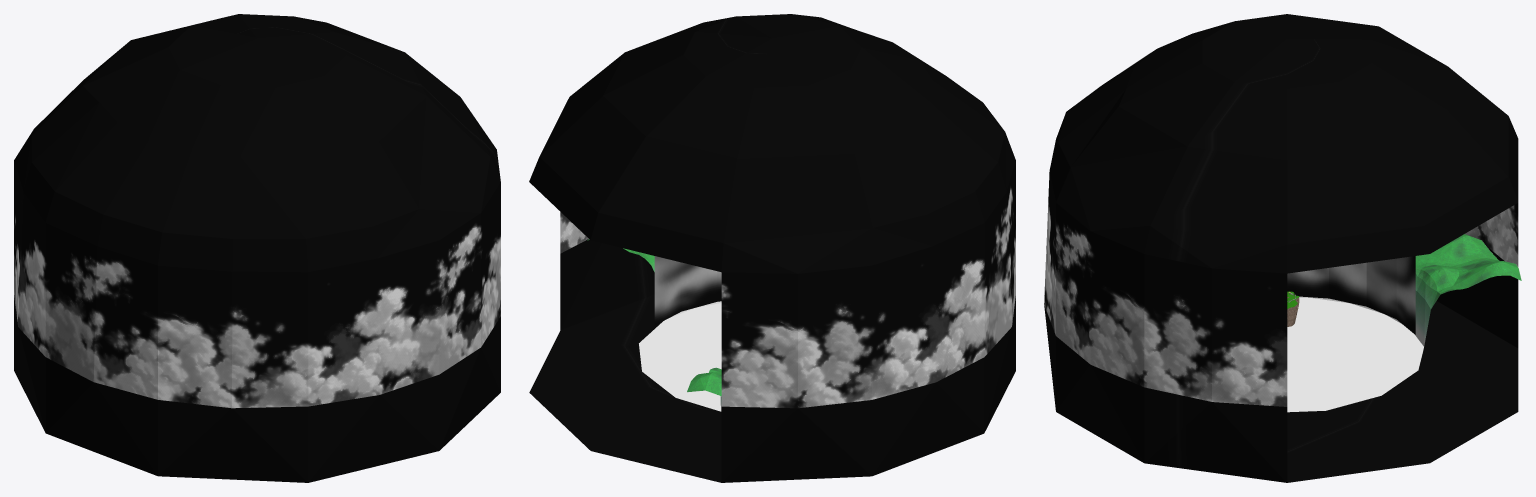
File: AstroDomeTower_bake.dae
3 renders of one model, left to right at view 1: azimuth 30°, elevation 25°; view 2: azimuth 150°, elevation 25°; view 3: azimuth 270°, elevation 25°, orthographic.
Parts seen in each view (by area): view 1: m9; view 2: m9, m8, m10; view 3: m9, m8, m10.
Part boxes in pixels (<box>): m9: <box>14,14,500,482</box>; m9: <box>529,14,1015,482</box>; m8: <box>587,239,721,411</box>; m10: <box>654,256,721,325</box>; m9: <box>1044,14,1518,482</box>; m8: <box>1287,234,1521,412</box>; m10: <box>1287,256,1415,334</box>.
Size of the model in its own units: 54210 by 41997 by 53260.
